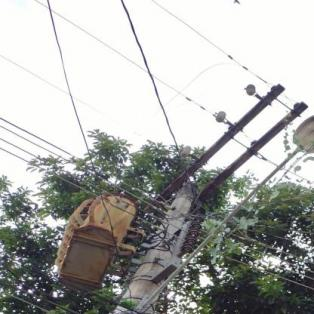Poste: (0, 181, 208, 314)
